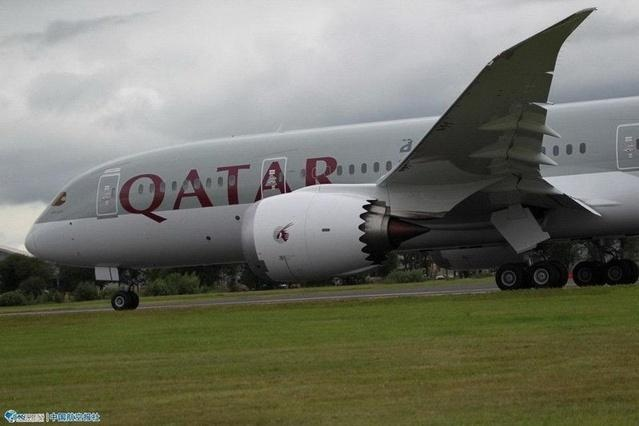airplane: (23, 8, 639, 291)
